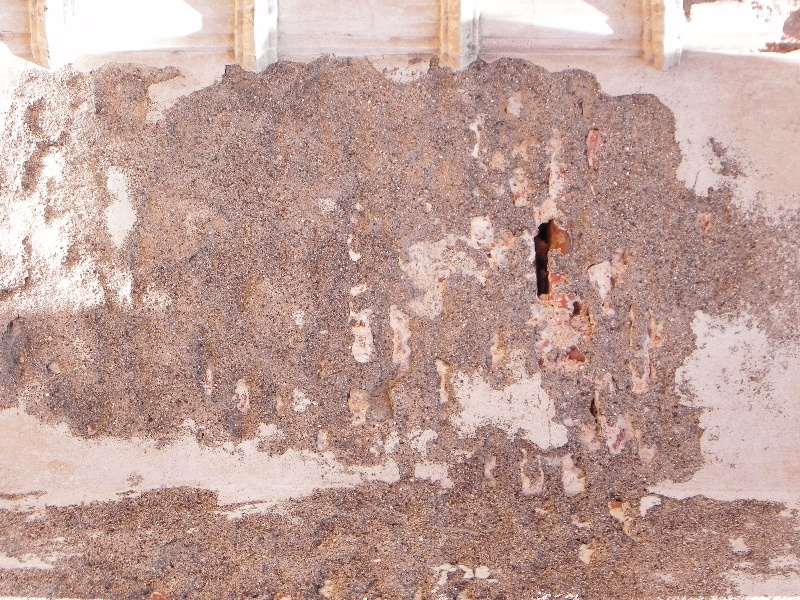Spalling: (2, 66, 742, 484)
